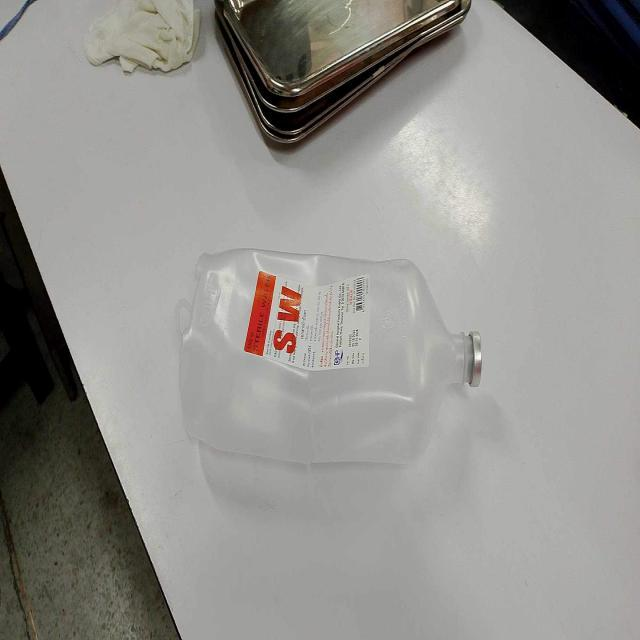General: (211, 0, 473, 149), (241, 268, 372, 373)
Infectious: (177, 246, 482, 466), (82, 0, 201, 74)
